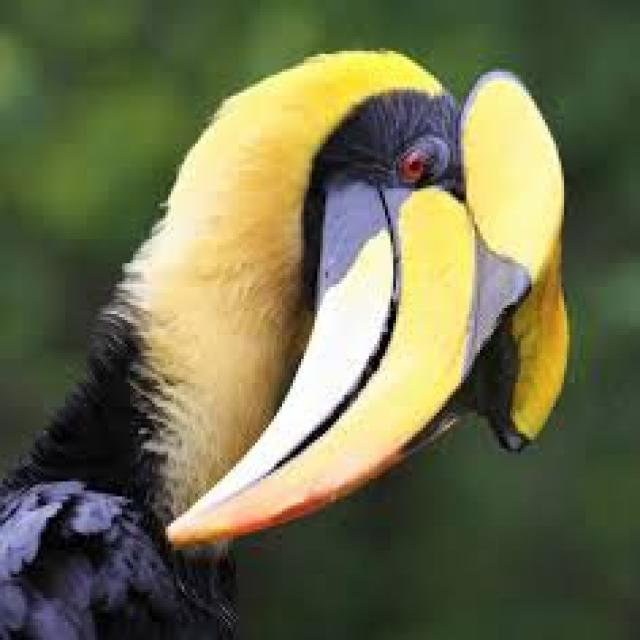Hornbill: (0, 36, 575, 640)
